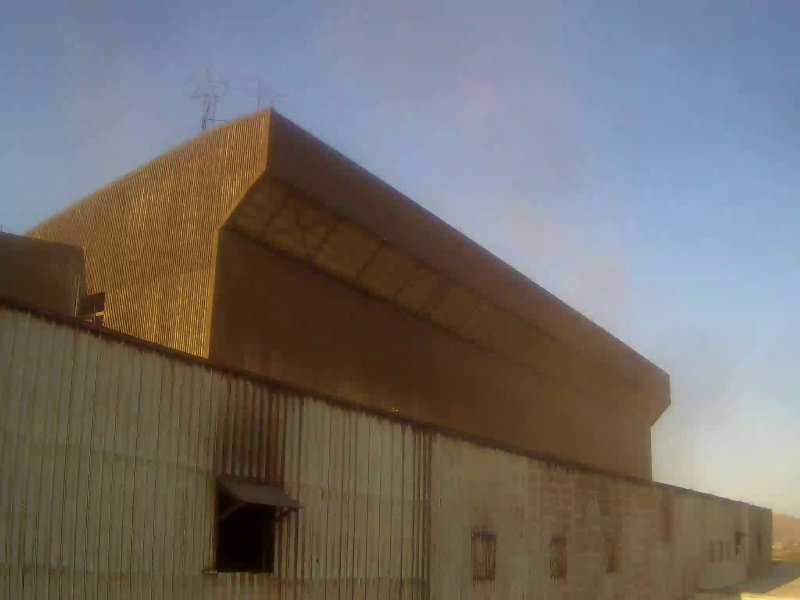ruim: (336, 46, 696, 501)
